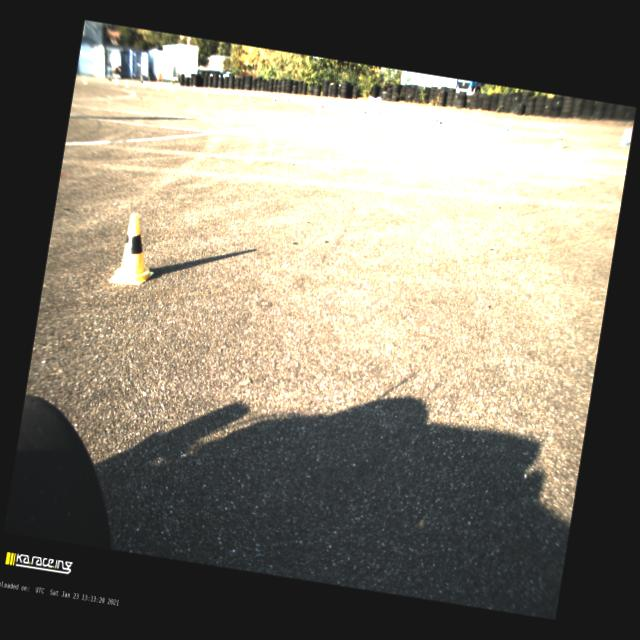blue_cone: (504, 118, 511, 132), (376, 104, 382, 115), (433, 112, 438, 122), (286, 94, 290, 102), (324, 100, 328, 106), (249, 92, 253, 98)
yellow_cone: (109, 211, 163, 288), (552, 130, 566, 148), (436, 116, 444, 132), (239, 91, 245, 102), (361, 109, 367, 119), (272, 96, 277, 106), (319, 102, 324, 112), (204, 88, 208, 96)
